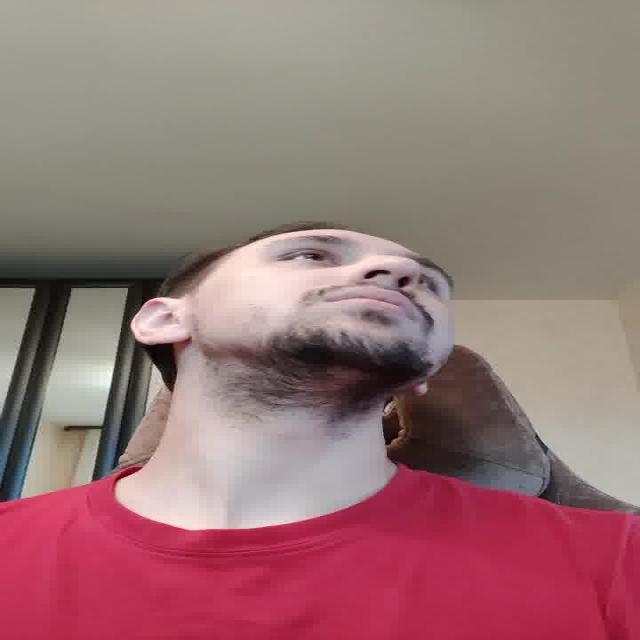earlobe: (139, 332, 196, 346), (411, 380, 434, 395)
eye: (282, 250, 342, 266), (416, 276, 443, 292)
nose: (355, 273, 417, 293)
wholeear: (130, 298, 192, 347)
